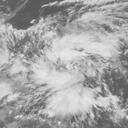cyclone: (31, 32, 121, 118)
